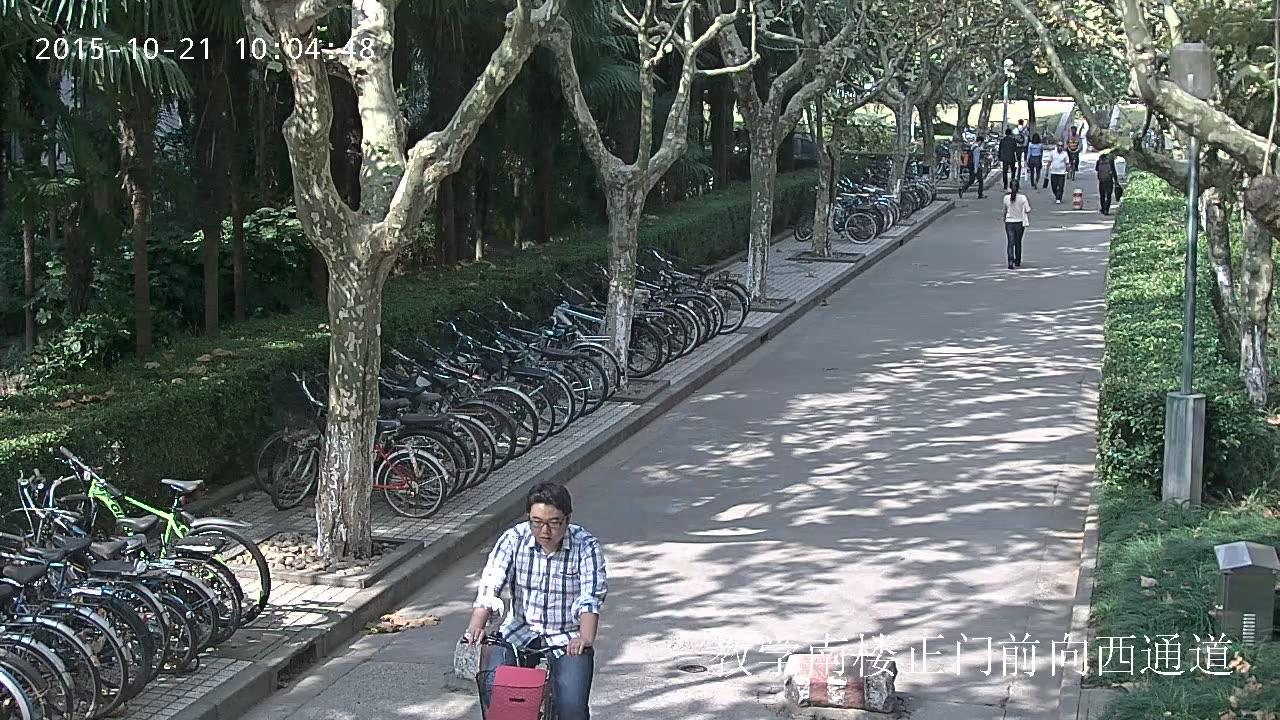person: (452, 482, 609, 720), (466, 480, 608, 720), (1001, 179, 1030, 269), (958, 135, 987, 199), (1043, 141, 1071, 206), (1094, 153, 1123, 215), (997, 129, 1019, 192), (1011, 118, 1029, 180), (1026, 133, 1043, 189), (1065, 125, 1081, 180), (1066, 125, 1081, 171)
